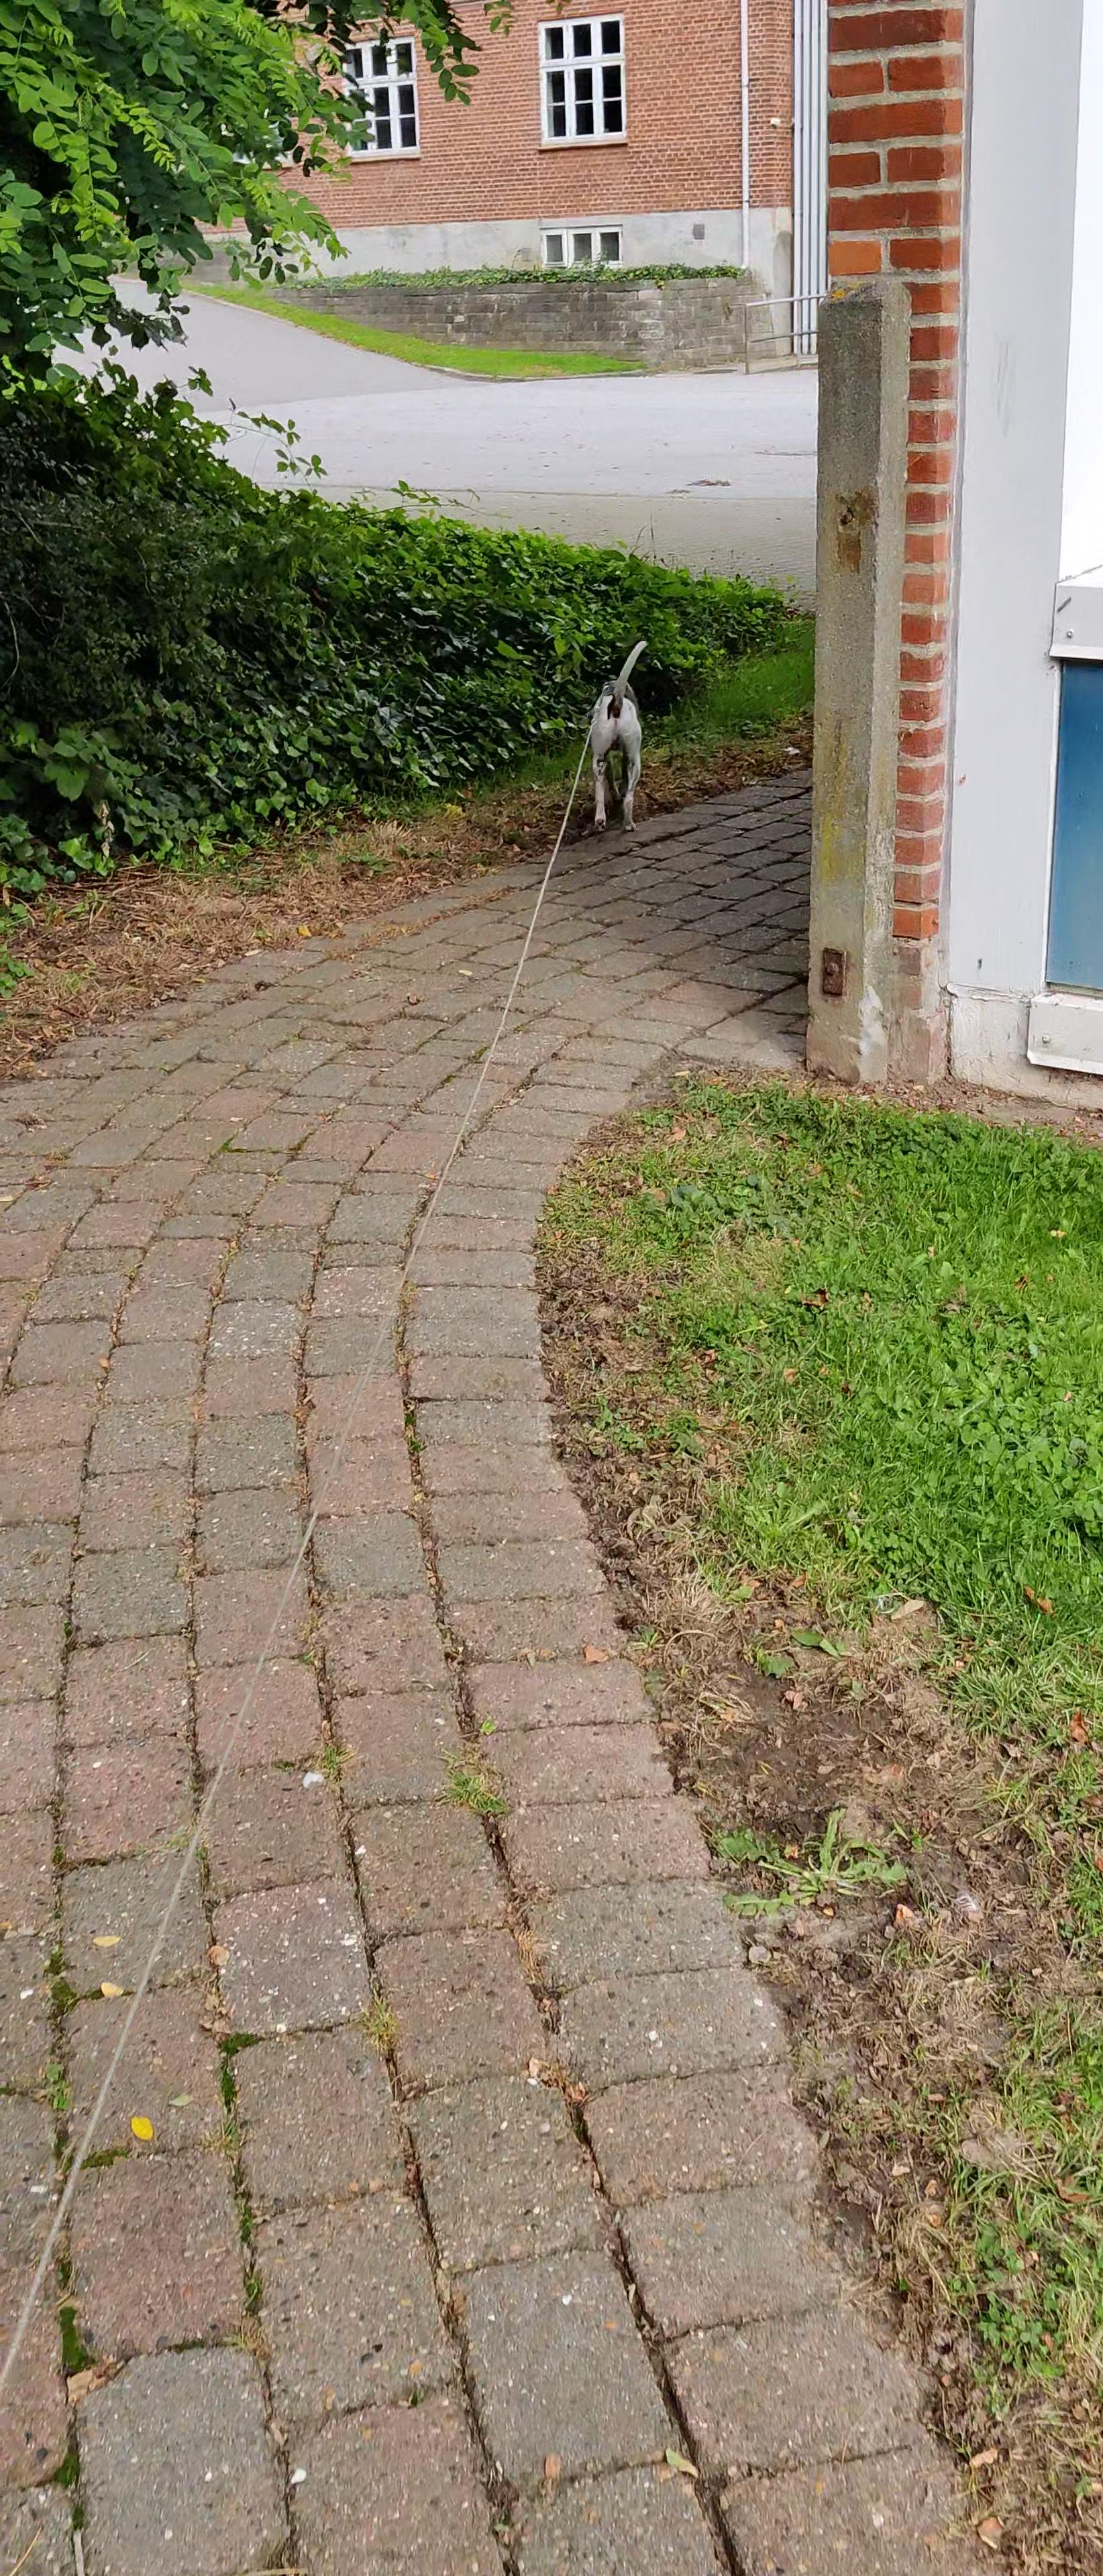Dog: (579, 637, 654, 831)
